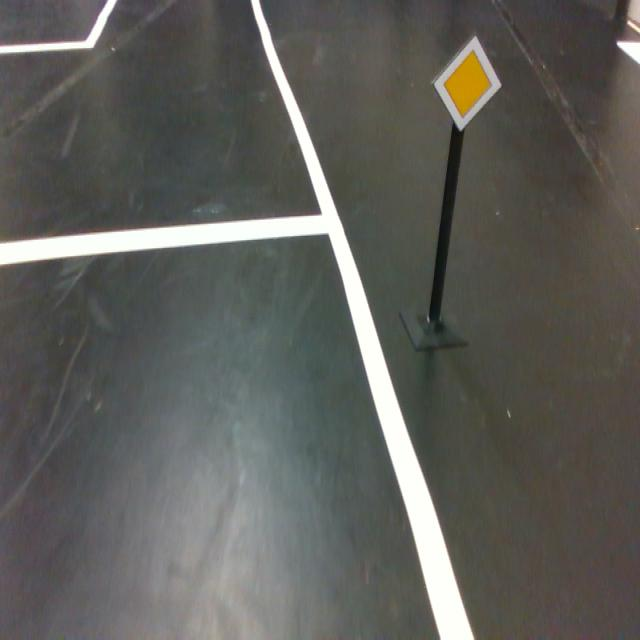priority-sign: (431, 33, 503, 133)
